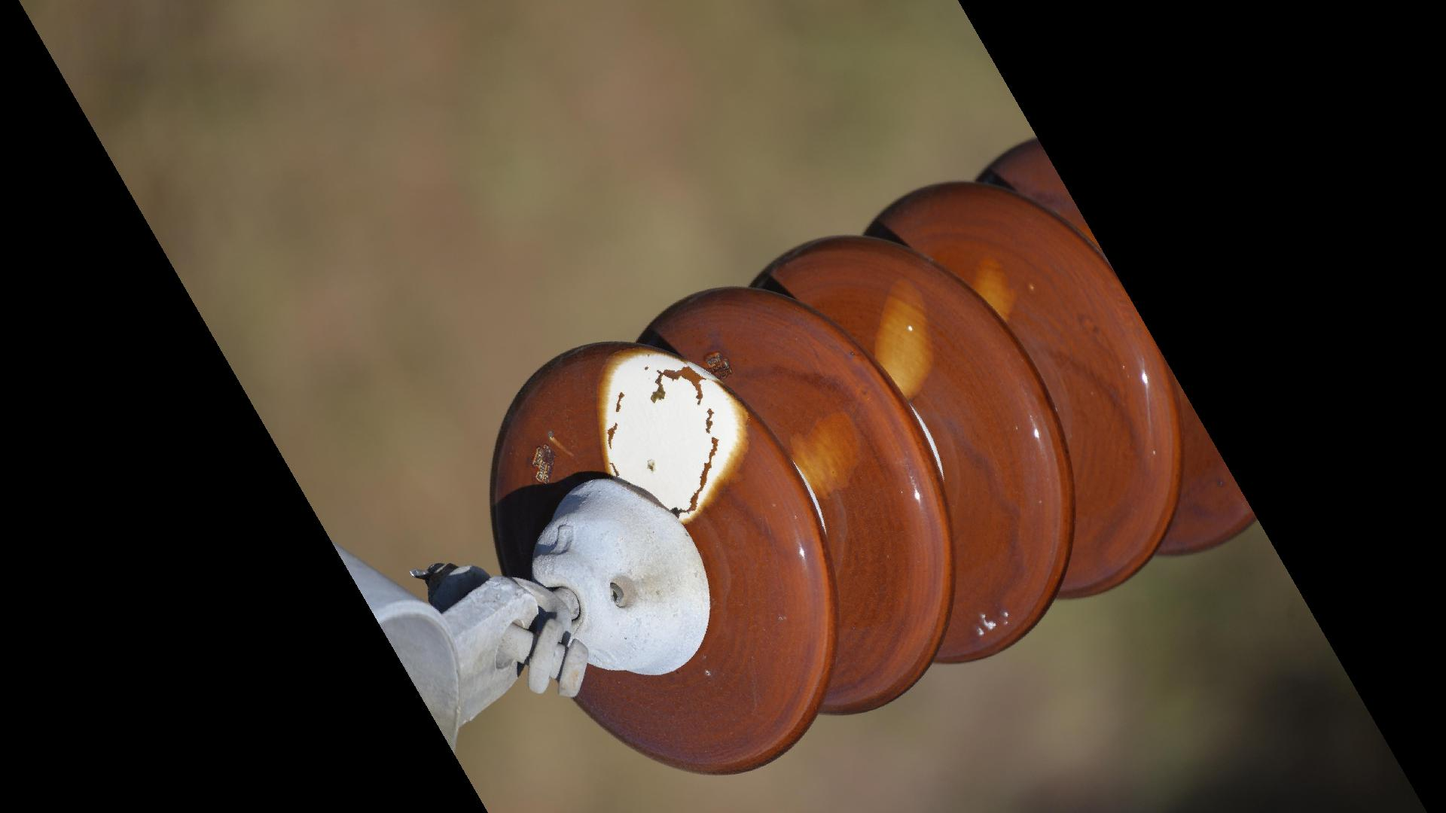insulator: (481, 132, 1267, 784)
insulator_flashover: (590, 338, 755, 529), (868, 274, 940, 405), (785, 405, 870, 501)
